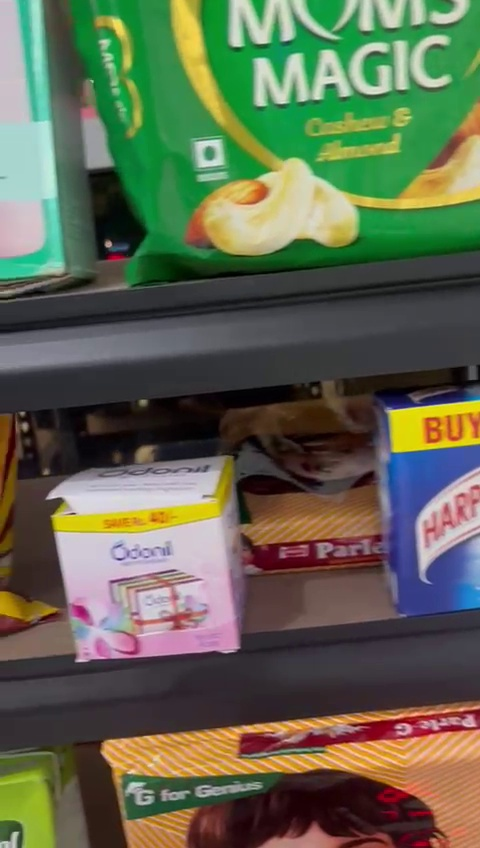Odonil: (46, 455, 239, 658)
